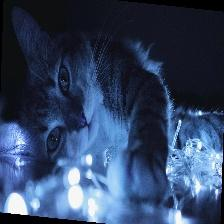kedo: (13, 6, 166, 199)
